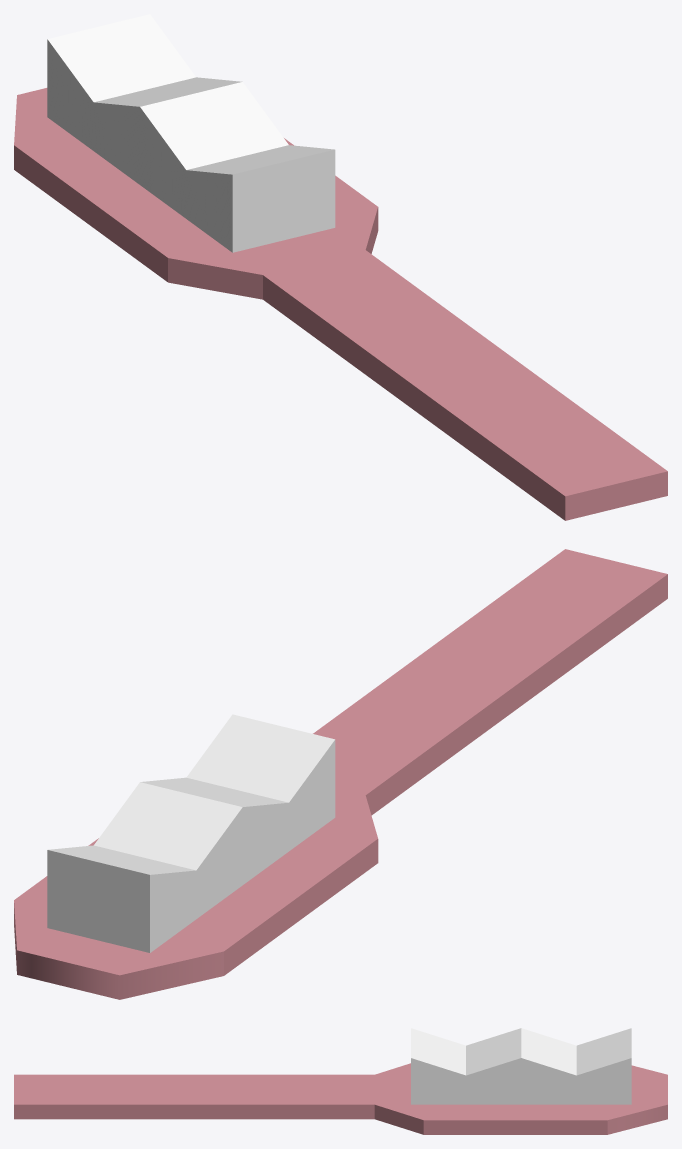
File: hammasharja.FBX
3 views of the same model, one above another, from view 1: azimuth 30°, elevation 25°; view 2: azimuth 150°, elevation 25°; view 3: azimuth 270°, elevation 25° (orthographic). The views are drawn at different scales.
Parts seen in each view (by area): view 1: hammasharja; view 2: hammasharja; view 3: hammasharja.
Boxes of the visible parts, x1,y1,x2,y2 form: hammasharja: [14, 14, 667, 520]; hammasharja: [14, 549, 667, 999]; hammasharja: [14, 1028, 667, 1134].
Bounding box in the file's own units: 11.29 × 5.28 × 51.05.
